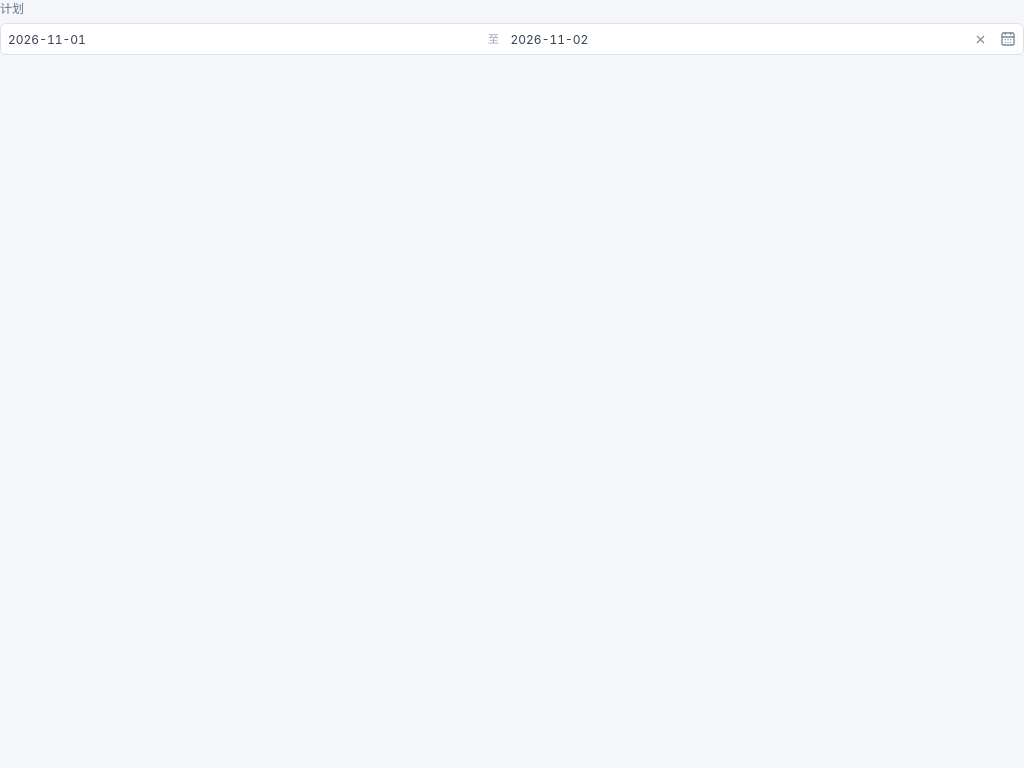
custom temporal popover interactions › keeps date range drafts private, cancels partial selection and commits the sorted pair once
The image size is (1024, 768).
Click the button named "选择计划".
click(1008, 39)  # box [994,25,1022,53]
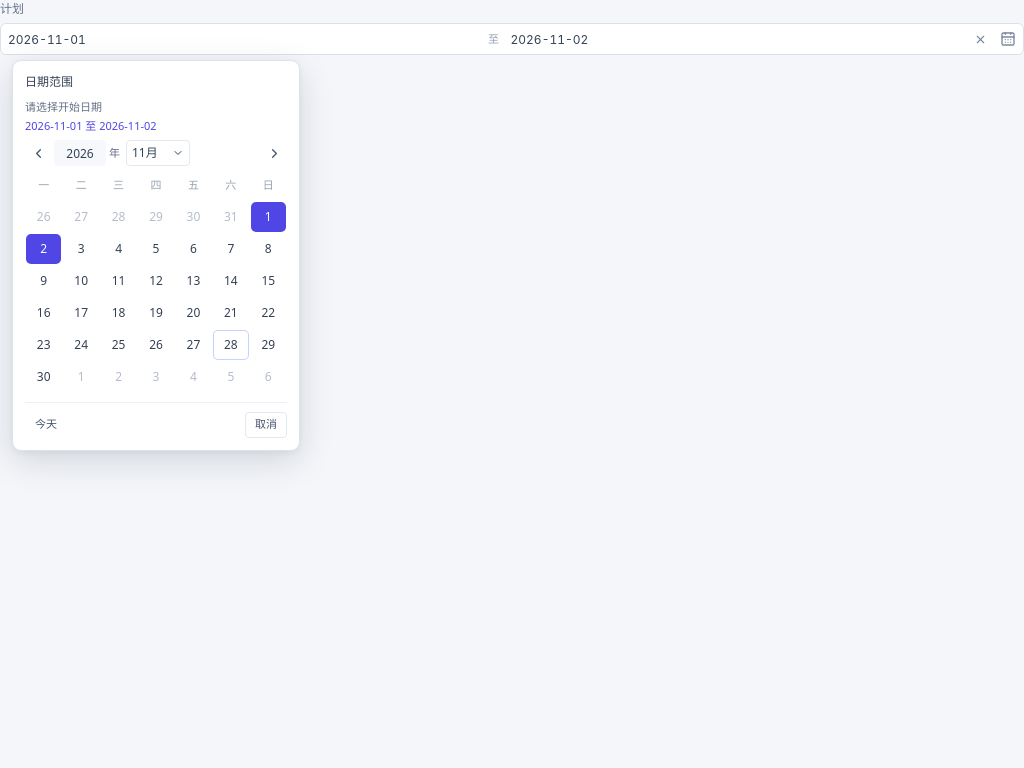
Click the button named "2026-11-09".
click(44, 280)  # box [26,266,61,296]
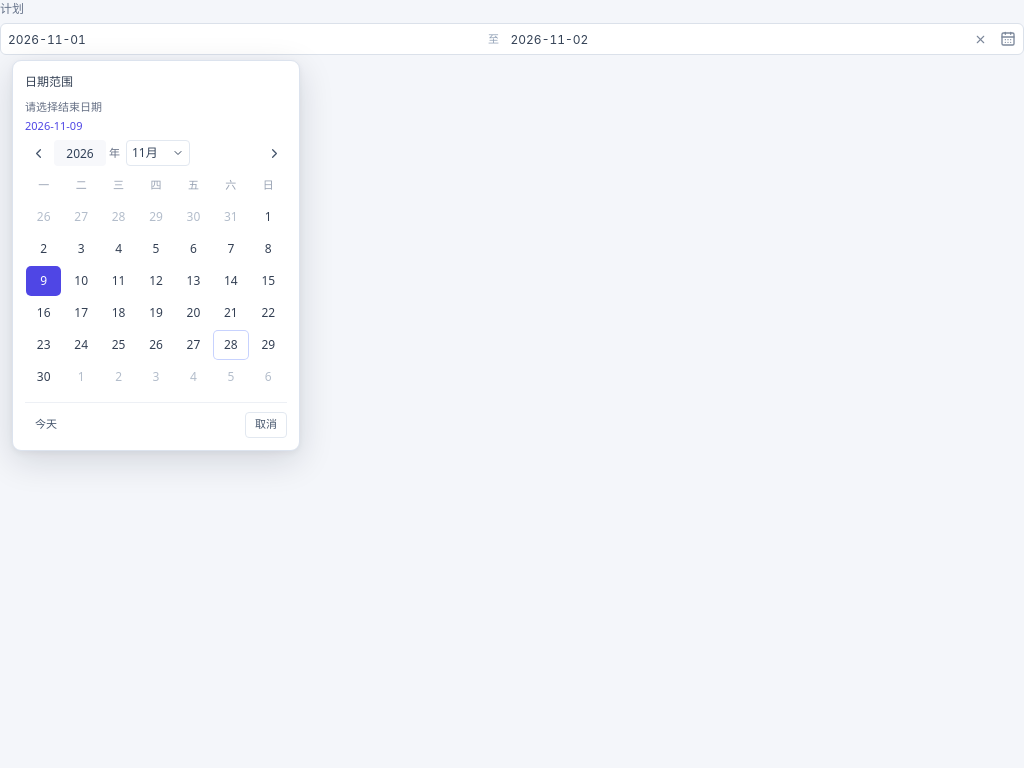
Press Escape in the dialog named "计划选择面板", box [12,60,300,450]
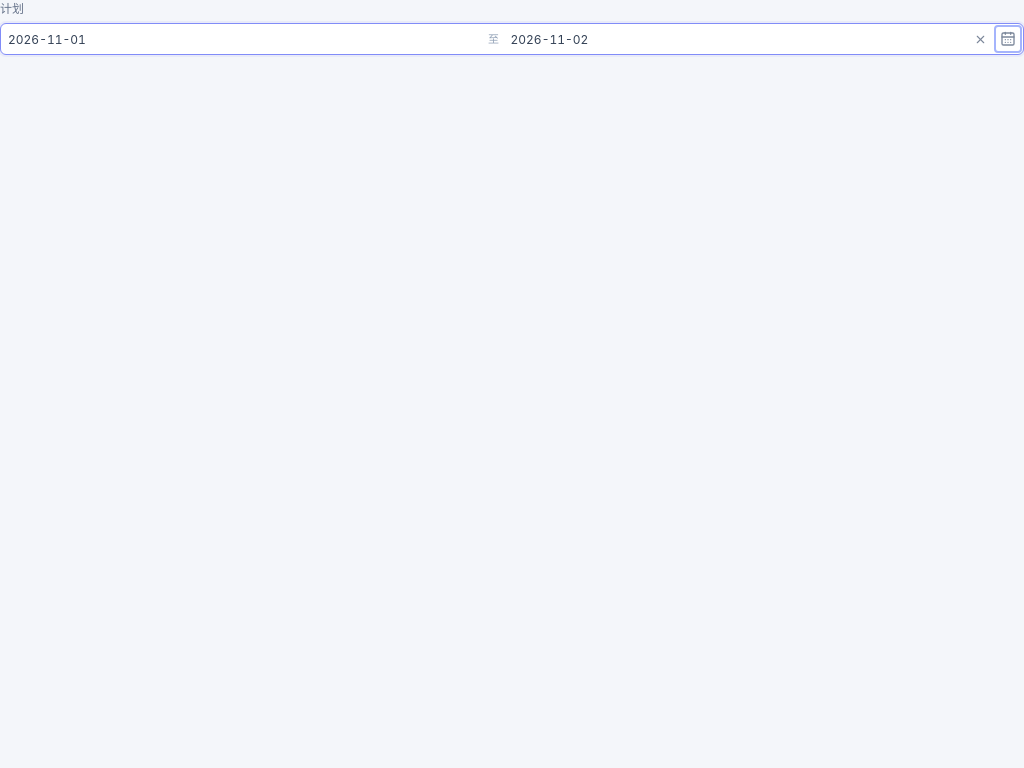
Check: the dialog is gone
Click the button named "选择计划".
click(1008, 39)  # box [994,25,1022,53]
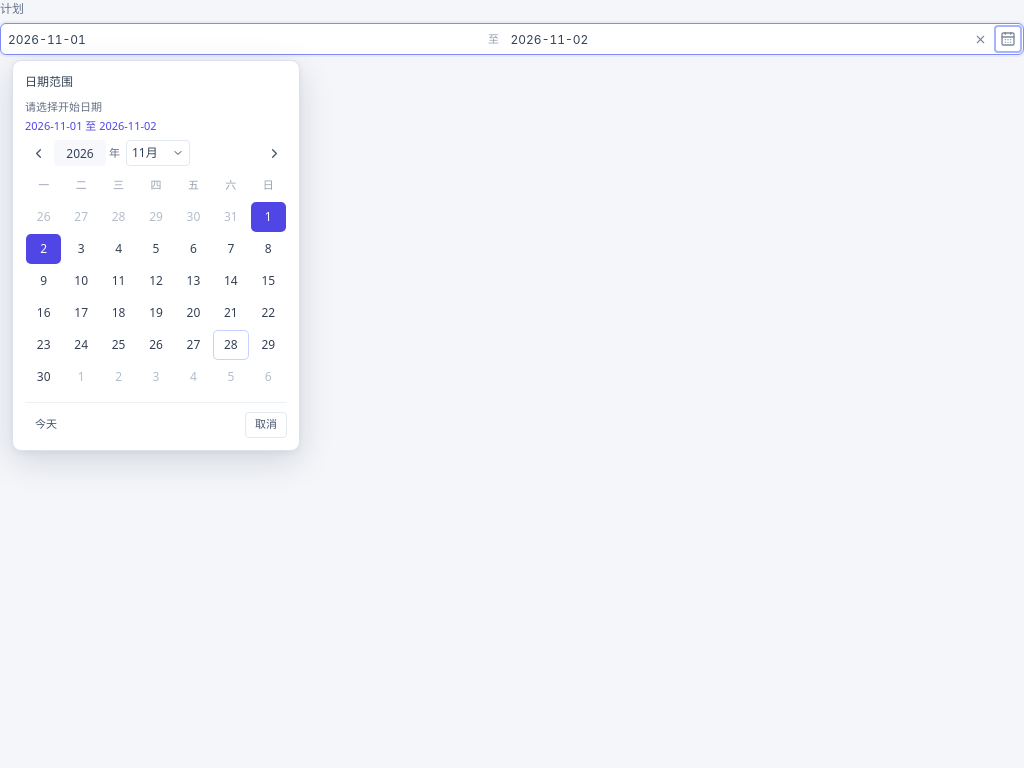
Click the button named "2026-11-09".
click(44, 280)  # box [26,266,61,296]
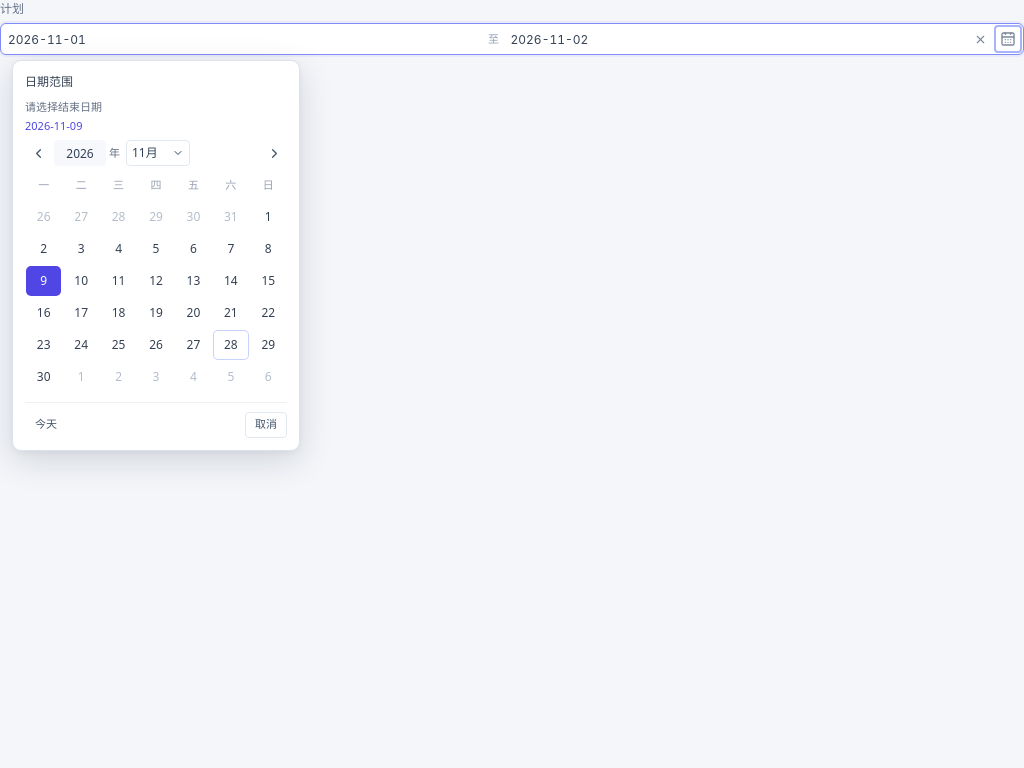
Click the button named "2026-11-07".
click(231, 248)  # box [213,234,248,264]
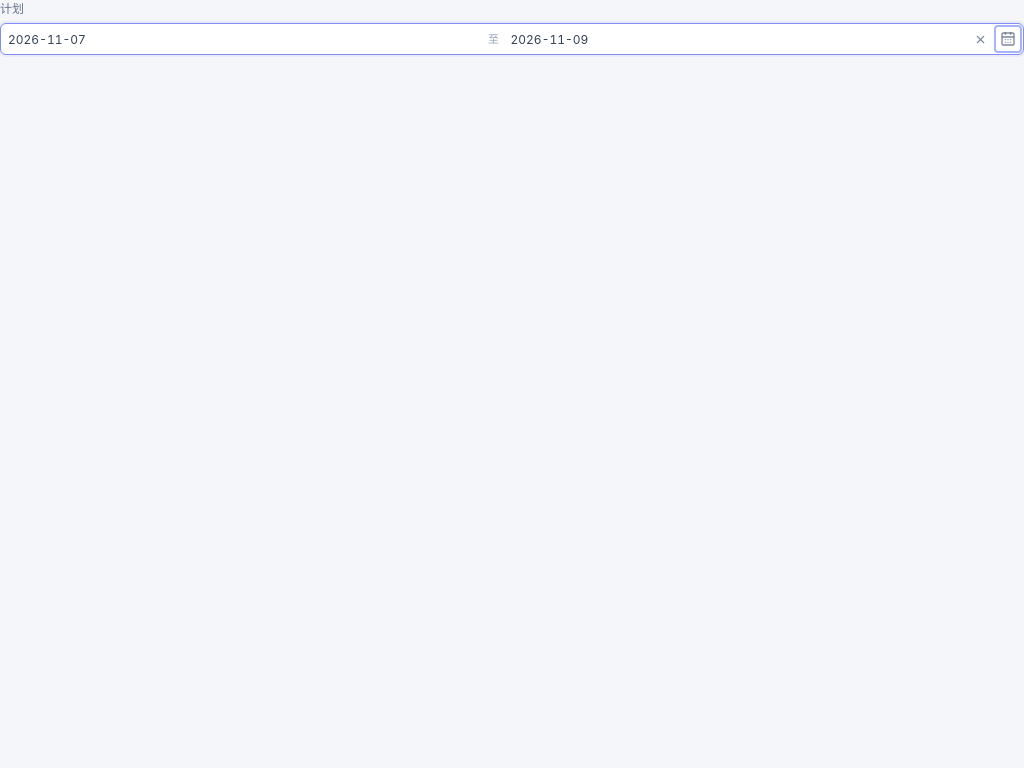
Check: the dialog is gone
